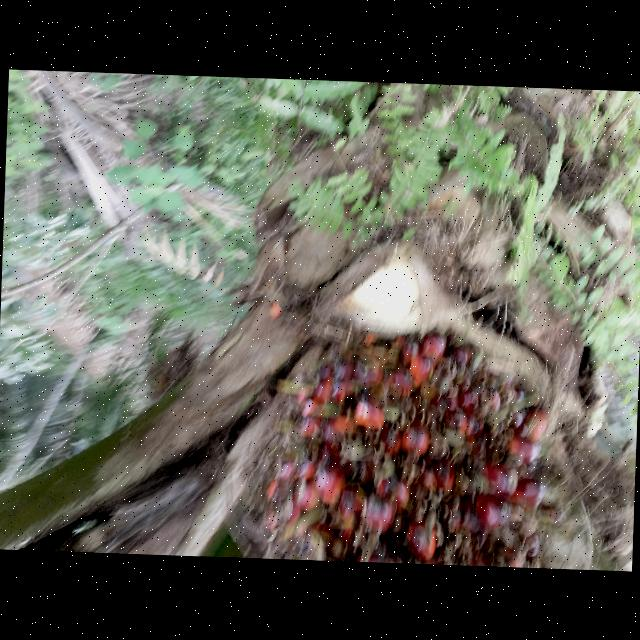Ripe: (260, 328, 561, 566)
